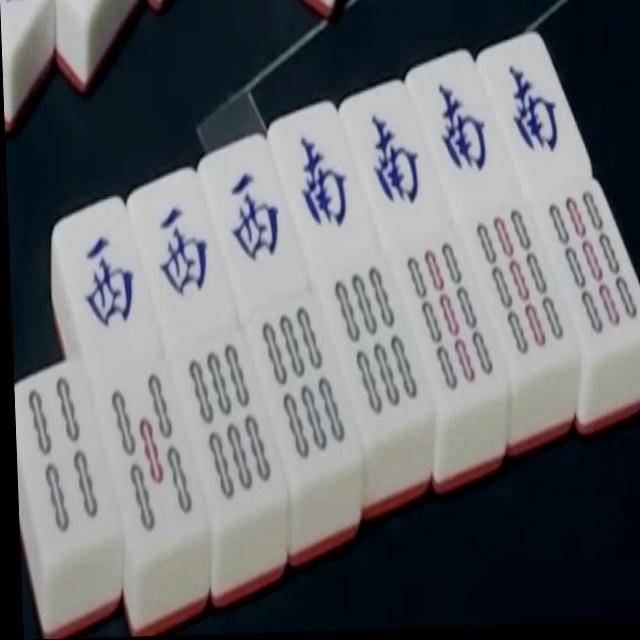s4: (23, 365, 102, 539)
s5: (111, 370, 195, 520)
s6: (182, 331, 275, 499), (258, 303, 349, 460), (335, 267, 423, 423)
s9: (404, 230, 498, 397), (548, 184, 640, 334), (479, 208, 565, 362)
south: (291, 115, 355, 238), (365, 95, 425, 222), (432, 69, 492, 191), (504, 49, 563, 166)
west: (72, 214, 141, 339), (151, 182, 215, 315), (222, 158, 285, 273)
